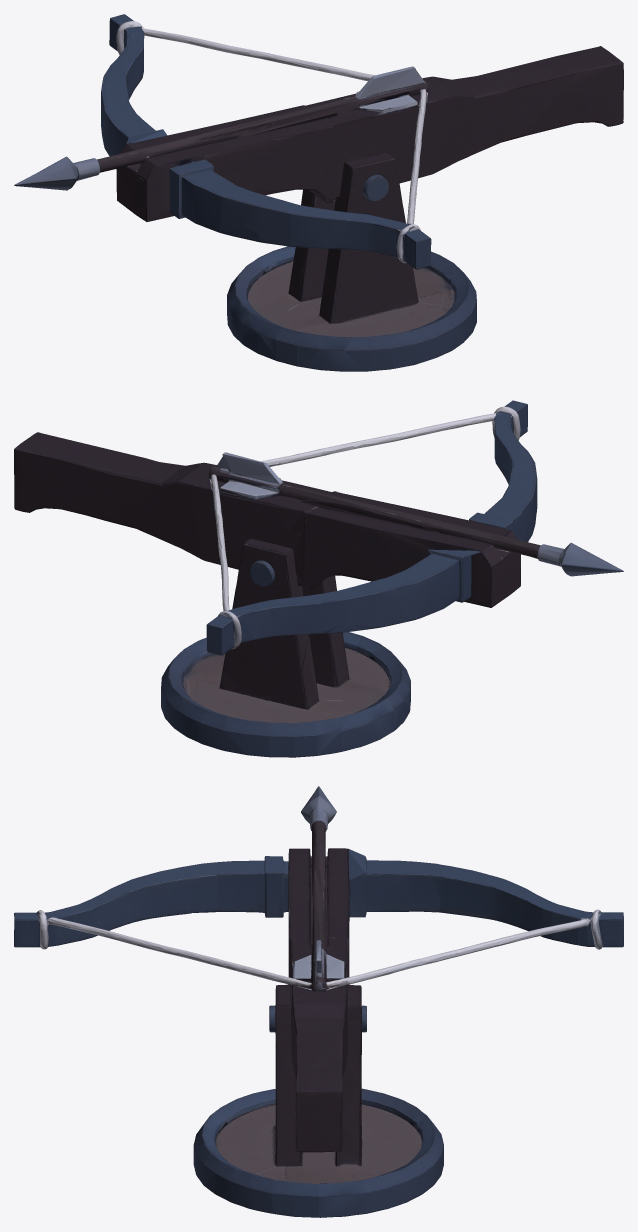
File: turret.glb
3 views of the same model, one above another, from view 1: azimuth 30°, elevation 25°; view 2: azimuth 150°, elevation 25°; view 3: azimuth 270°, elevation 25° (orthographic).
Bounding box in the file's own units: 1.9 × 0.7195 × 1.68.
Materials: 1 (1 with a texture image).
